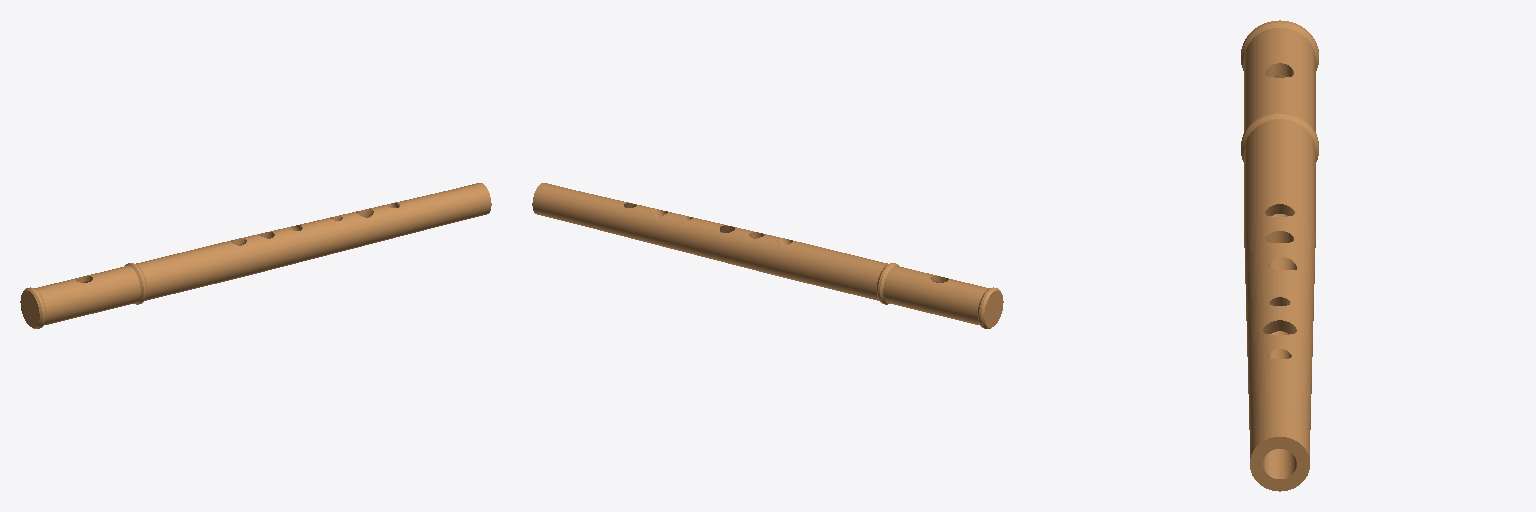
URDF robot description (Flute):
<?xml version="1.0"?>
                <robot name="Flute">
                <link name="base_link">
                    <visual>
                    <geometry>
                        <mesh filename="top_watertight_tiny.stl" scale="1.0 1.0 1.0"/>
                    </geometry>
                    <material name="object_material">
                        <color rgba="0.8 0.6 0.4 1.0"/>
                    </material>
                    </visual>
                    <collision>
                    <geometry>
                        <mesh filename="top_watertight_tiny.stl" scale="1.0 1.0 1.0"/>
                    </geometry>
                    </collision>
                    <inertial>
                    <mass value="1.0"/>
                    <inertia ixx="1.0" ixy="0.0" ixz="0.0" iyy="1.0" iyz="0.0" izz="1.0"/>
                    </inertial>
                </link>
                </robot>

--- Render facts (derived) ---
The picture shows the robot from 3 angles, left to right: view 1: azimuth 30°, elevation 25°; view 2: azimuth 150°, elevation 25°; view 3: azimuth 270°, elevation 25°; orthographic projection.
Model Flute with 1 links and 0 joints (none), rooted at base_link, posed every joint at zero.
Links seen in each view (by area): view 1: base_link; view 2: base_link; view 3: base_link.
Boxes of the visible links, x1,y1,x2,y2 form: base_link: (20, 183, 491, 328); base_link: (532, 183, 1003, 328); base_link: (1241, 20, 1318, 491).
Bounding box of the posed robot: 0.21 × 0.017 × 0.017 m (x, y, z).
1 mesh visuals loaded from 1 distinct referenced files (1 binary STL).